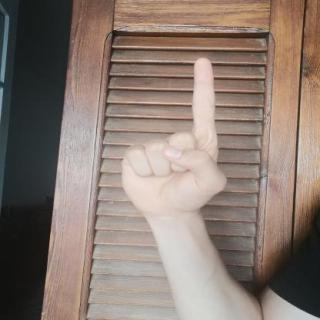BAA: (110, 50, 232, 225)
